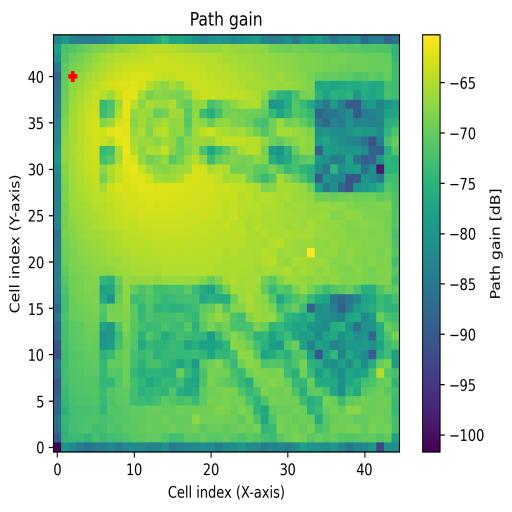Concrete: (315, 81, 385, 192)
Glass: (130, 82, 200, 184)
Metal: (299, 284, 377, 396)
Wood: (130, 283, 208, 405)
